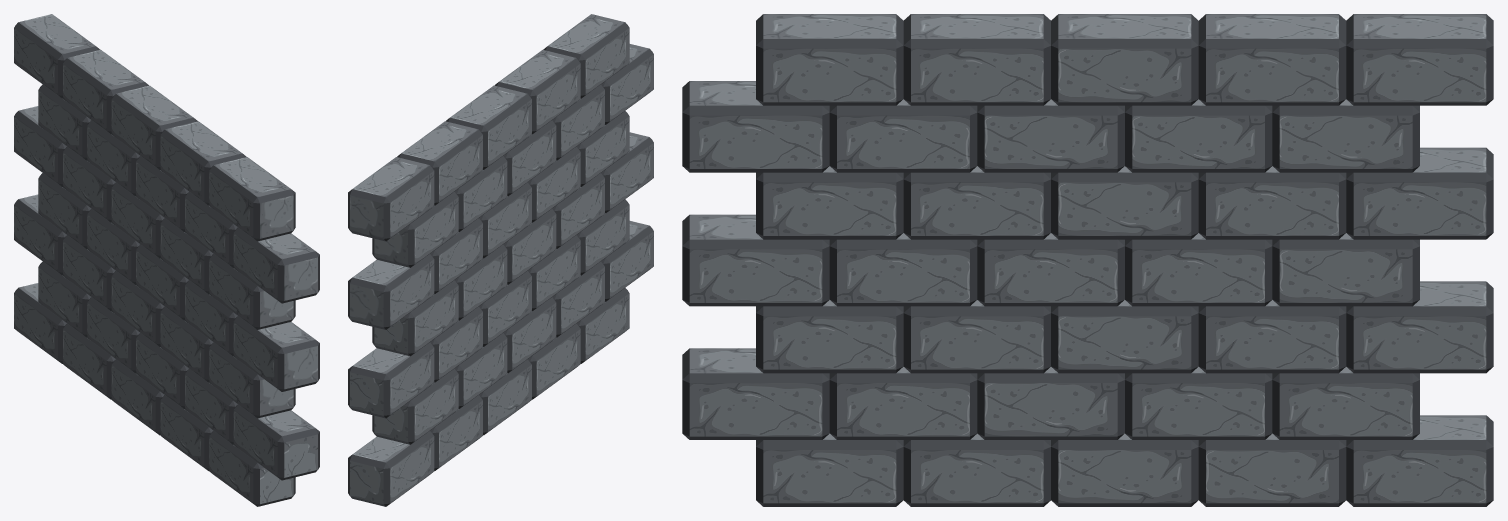
File: M_Parete_Sotterraneo.fbx
3 renders of one model, left to right at view 1: azimuth 30°, elevation 25°; view 2: azimuth 150°, elevation 25°; view 3: azimuth 270°, elevation 25°, orthographic. The views are drawn at different scales.
Visible parts, largest first — view 1: Parete_Mattoni; view 2: Parete_Mattoni; view 3: Parete_Mattoni.
Boxes of the visible parts, bbox=[...] form: Parete_Mattoni: bbox=[14, 14, 319, 506]; Parete_Mattoni: bbox=[348, 14, 653, 506]; Parete_Mattoni: bbox=[682, 14, 1493, 506].
Size of the model in its own units: 1 by 7 by 11.
